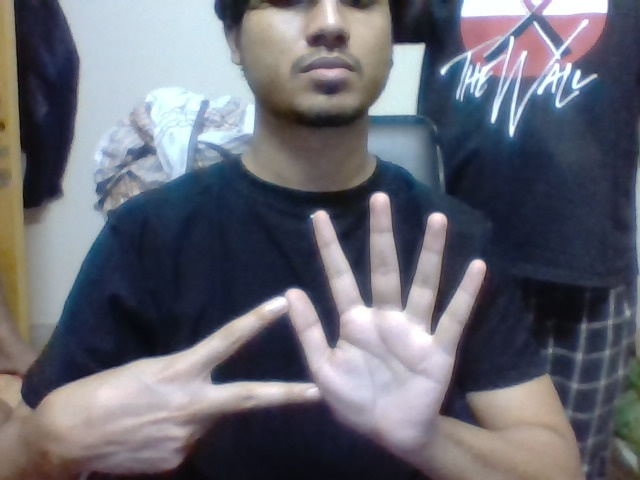N: (175, 293, 285, 418)
